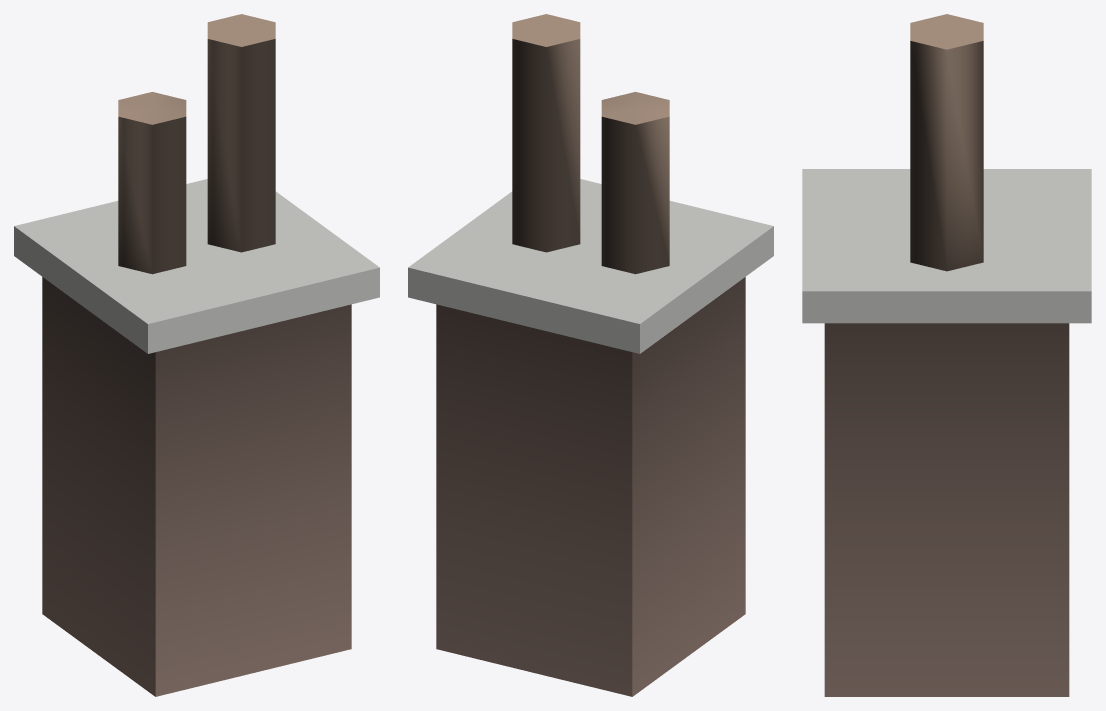
File: vent_stack.lod1.glb
The picture shows the model from 3 angles, left to right: view 1: azimuth 30°, elevation 25°; view 2: azimuth 150°, elevation 25°; view 3: azimuth 270°, elevation 25°; orthographic projection. The views are drawn at different scales.
Visible parts, largest first — view 1: props_vent_stack.lod1; view 2: props_vent_stack.lod1; view 3: props_vent_stack.lod1.
Part boxes in pixels (bbox=[...]): props_vent_stack.lod1: bbox=[14, 14, 379, 696]; props_vent_stack.lod1: bbox=[408, 14, 773, 696]; props_vent_stack.lod1: bbox=[802, 14, 1091, 696].
Bounding box in the file's own units: 1.3 × 3.16 × 1.3.
